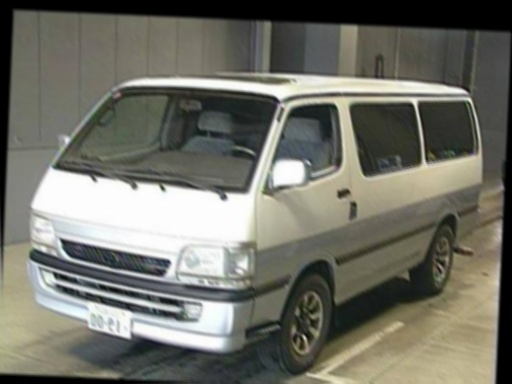van: (13, 61, 487, 374)
